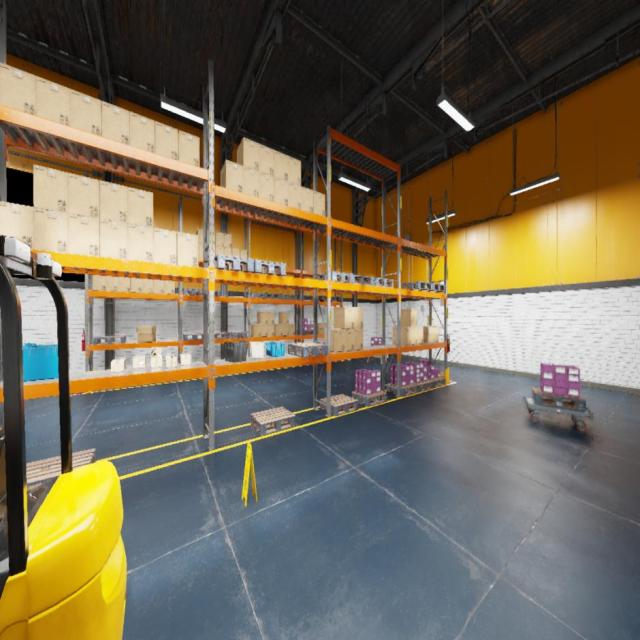box: (0, 61, 35, 114), (36, 76, 70, 126), (34, 164, 68, 213), (0, 200, 33, 249), (33, 208, 68, 252), (70, 89, 102, 136), (68, 172, 99, 219), (68, 213, 99, 256), (102, 101, 130, 144), (100, 180, 128, 222), (100, 220, 128, 260), (128, 186, 153, 228), (130, 111, 155, 152), (128, 223, 153, 262), (156, 121, 178, 160), (178, 130, 200, 167), (177, 231, 199, 267), (154, 228, 176, 264), (237, 137, 259, 171), (221, 159, 243, 193), (324, 328, 345, 352), (259, 144, 274, 176), (244, 166, 259, 197), (259, 171, 274, 201), (334, 306, 354, 328), (274, 150, 288, 181), (274, 177, 288, 206), (289, 156, 301, 185), (289, 182, 301, 209), (136, 326, 156, 342), (422, 326, 440, 343), (393, 327, 410, 345), (401, 309, 417, 327), (314, 190, 325, 216), (302, 187, 313, 213), (151, 348, 162, 368), (92, 275, 106, 290), (106, 276, 119, 292), (345, 328, 354, 351), (355, 328, 363, 351), (111, 359, 125, 372), (355, 307, 363, 328), (130, 278, 142, 292), (142, 278, 153, 293), (119, 277, 130, 292), (133, 356, 146, 368), (166, 354, 177, 368), (410, 327, 418, 344), (164, 281, 174, 294), (154, 280, 164, 293), (250, 324, 260, 336), (216, 232, 224, 247), (208, 230, 216, 245), (196, 228, 204, 243), (180, 354, 190, 365), (279, 312, 289, 323), (258, 312, 268, 323), (224, 233, 231, 248), (280, 323, 288, 336), (208, 245, 216, 258), (274, 324, 282, 336), (260, 324, 268, 336), (317, 324, 326, 334), (418, 327, 423, 344), (232, 248, 240, 258), (216, 245, 224, 255), (288, 323, 294, 336), (268, 324, 274, 336), (240, 250, 248, 259), (268, 312, 274, 323), (224, 247, 231, 256), (199, 243, 203, 257)
forklift: (0, 235, 127, 639)
pallets: (26, 448, 96, 492), (250, 406, 296, 436), (532, 387, 586, 412), (320, 394, 358, 416), (214, 255, 254, 272), (288, 342, 328, 357), (253, 259, 286, 276), (351, 392, 387, 406), (338, 274, 374, 286), (386, 384, 418, 396), (317, 272, 353, 282), (402, 282, 432, 291), (93, 336, 126, 344), (368, 277, 393, 287), (413, 380, 433, 391), (427, 378, 445, 388), (426, 283, 445, 292), (183, 333, 203, 340), (208, 332, 228, 339), (183, 288, 202, 295), (95, 388, 126, 392), (227, 332, 247, 338), (203, 290, 221, 296), (311, 295, 327, 301), (247, 293, 266, 298), (266, 293, 281, 299), (323, 296, 340, 301), (281, 295, 297, 300), (298, 330, 313, 335)
